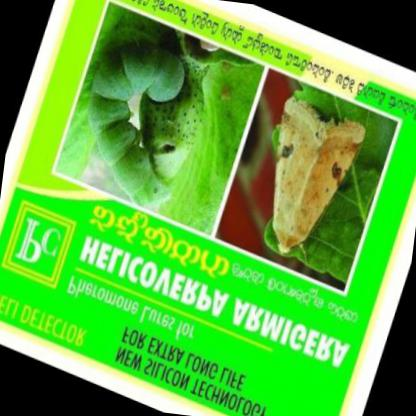helicoverpa: (271, 95, 366, 264)
